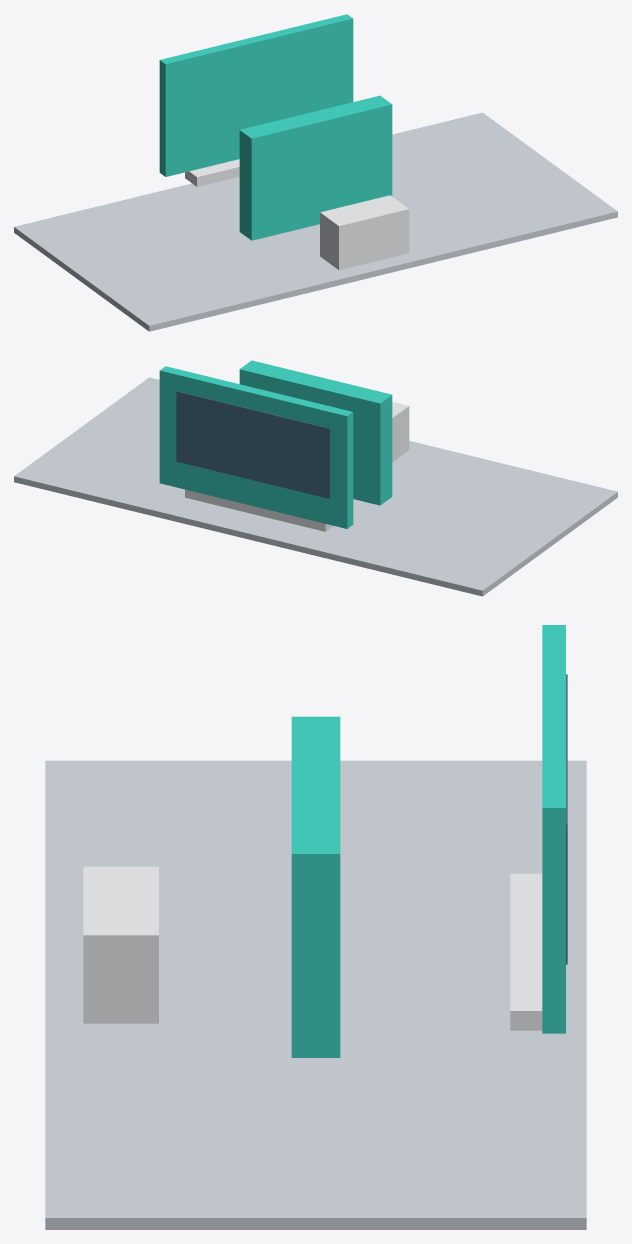
The picture shows the model from 3 angles, top to bottom: view 1: azimuth 30°, elevation 25°; view 2: azimuth 150°, elevation 25°; view 3: azimuth 270°, elevation 25°; orthographic projection. The views are drawn at different scales.
Visible parts, largest first — view 1: Exhibition Booth Concept; view 2: Exhibition Booth Concept; view 3: Exhibition Booth Concept.
Part boxes in pixels (x1,y1,x2,y2): Exhibition Booth Concept: (14, 14, 617, 331); Exhibition Booth Concept: (14, 360, 617, 596); Exhibition Booth Concept: (45, 625, 586, 1229).
Bounding box in the file's own units: 10 × 2.9 × 5.
